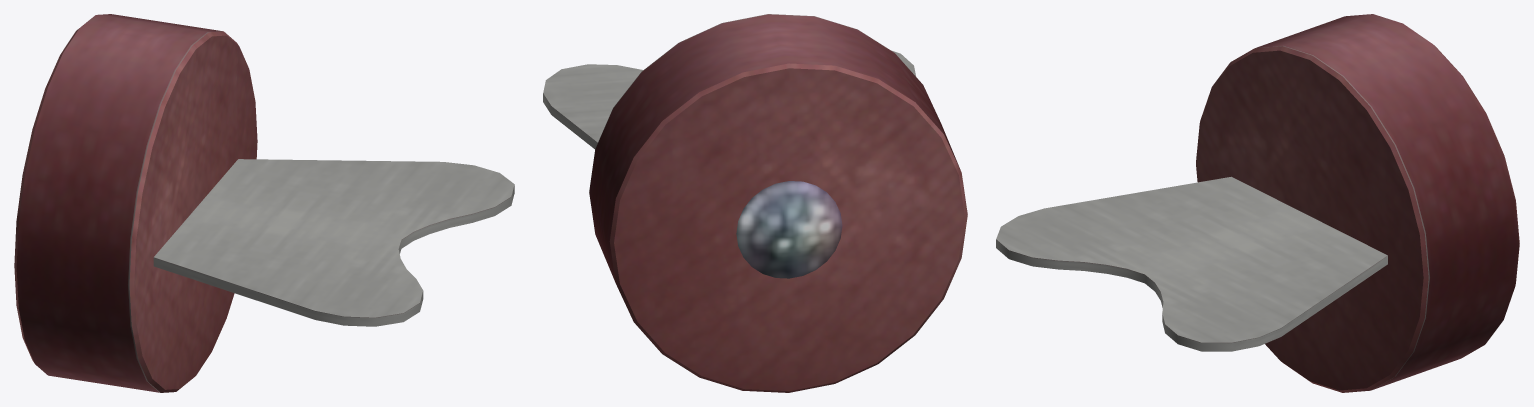
Rendered from RubberEMWheel.fbx.
3 renders of one model, left to right at view 1: azimuth 30°, elevation 25°; view 2: azimuth 150°, elevation 25°; view 3: azimuth 270°, elevation 25°, orthographic.
Visible parts, largest first — view 1: RubberEMWheel; view 2: RubberEMWheel; view 3: RubberEMWheel.
Boxes of the visible parts, left/top/right/bottom form: RubberEMWheel: left=14, top=14, right=514, bottom=392; RubberEMWheel: left=543, top=14, right=967, bottom=392; RubberEMWheel: left=996, top=14, right=1519, bottom=392.
Size of the model in its own units: 5.36 by 3.75 by 5.43.
1 material, 1 textured.
